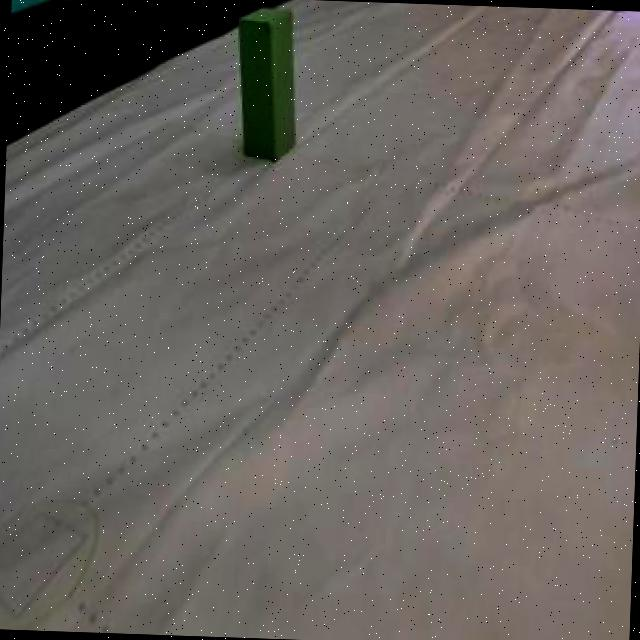greenbox: (233, 2, 304, 163)
